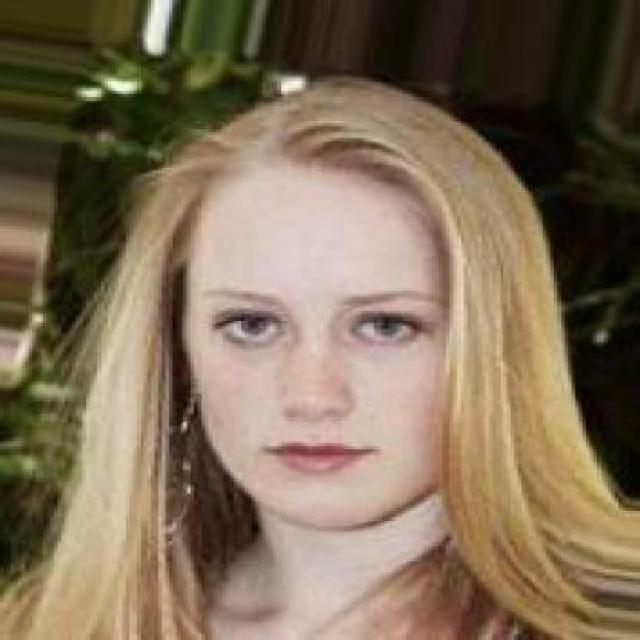closed-mouth: (258, 436, 376, 478)
